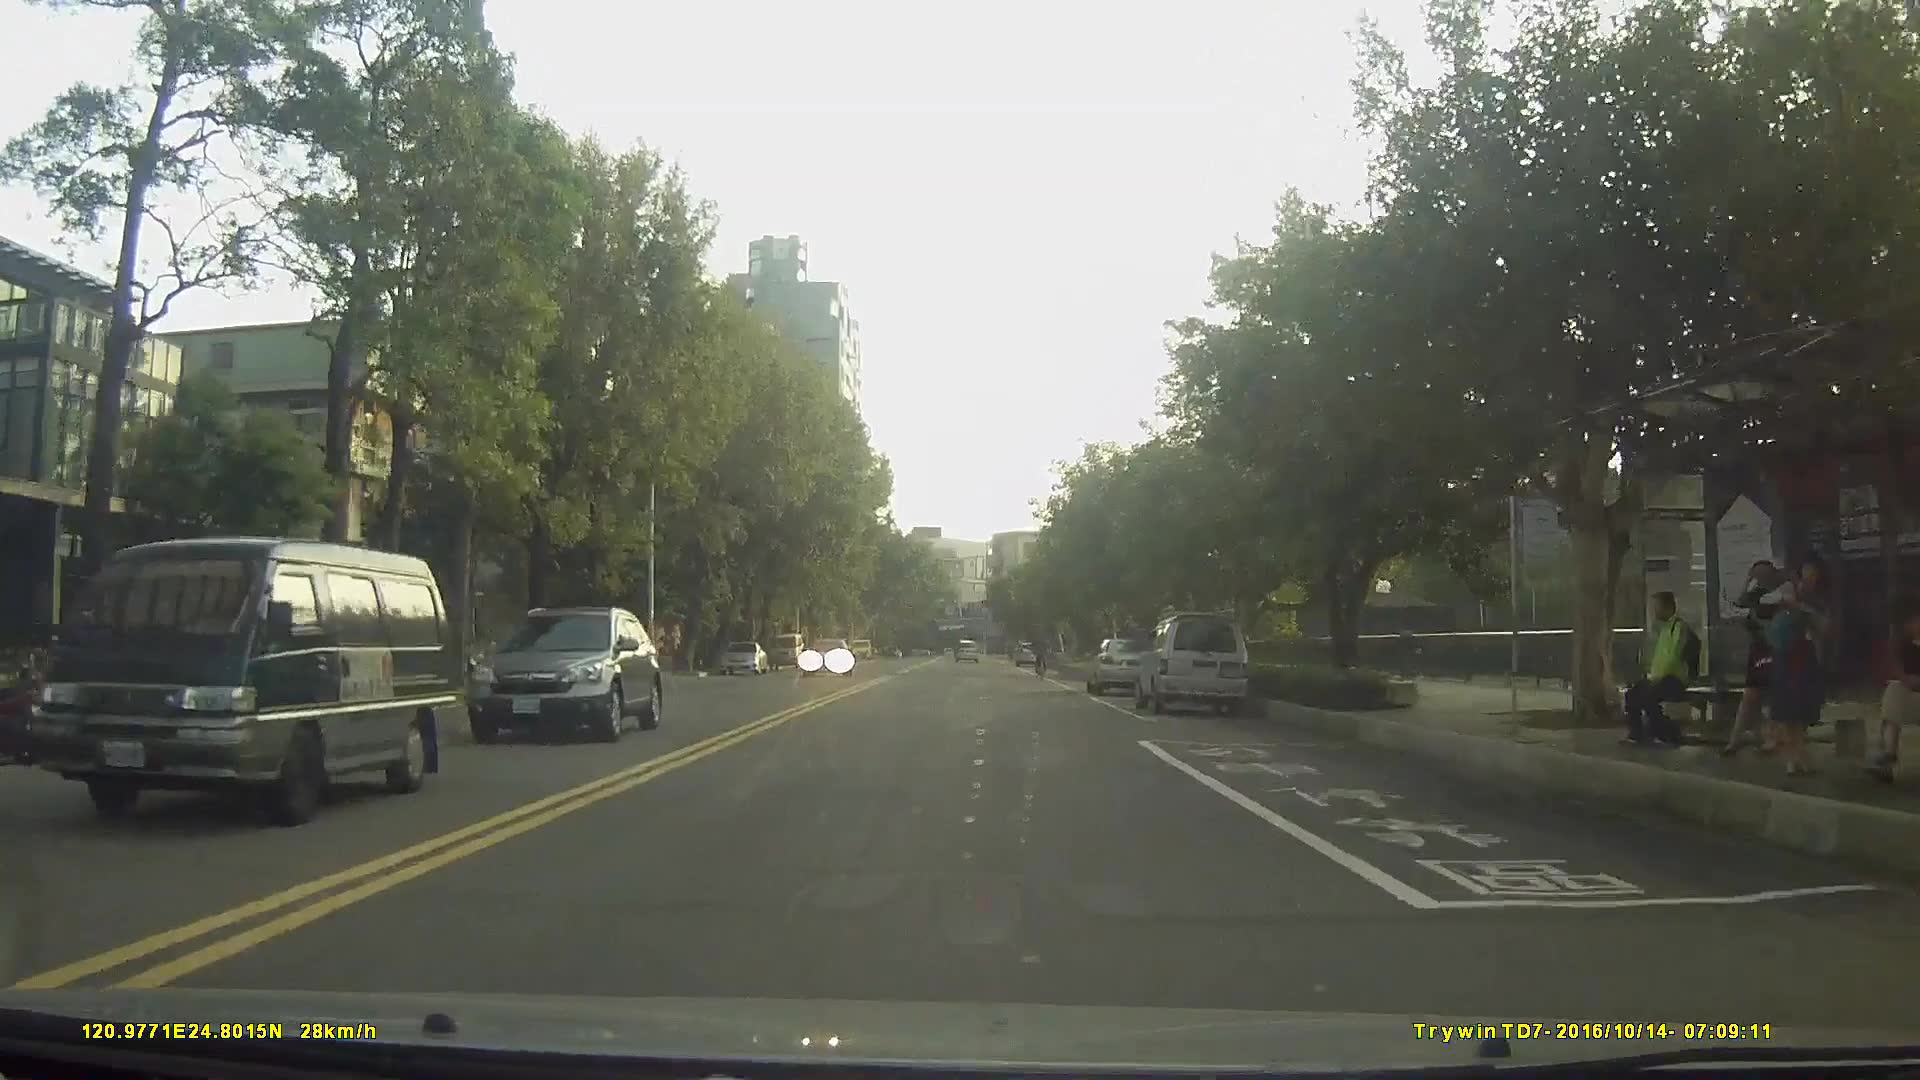pedestrian: (1752, 549, 1831, 786), (1625, 581, 1720, 761), (1873, 601, 1920, 770)
rider: (1031, 632, 1051, 686)
vehicle: (28, 534, 458, 826), (465, 605, 665, 740), (1135, 614, 1252, 717), (1087, 635, 1154, 695), (798, 636, 850, 679), (719, 638, 766, 676), (769, 629, 804, 672), (953, 636, 980, 665), (1015, 641, 1042, 668)
